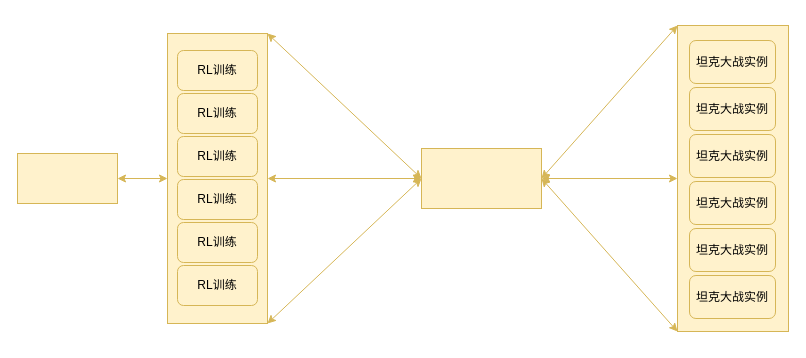
Image size: 806x358. Some labels were removed from this diagram. The centre of each missing label's shape, as x and y in pixels:
Flask 游戏数据传输: (x=481, y=178)
程序调度 + 参数选择: (x=67, y=178)
